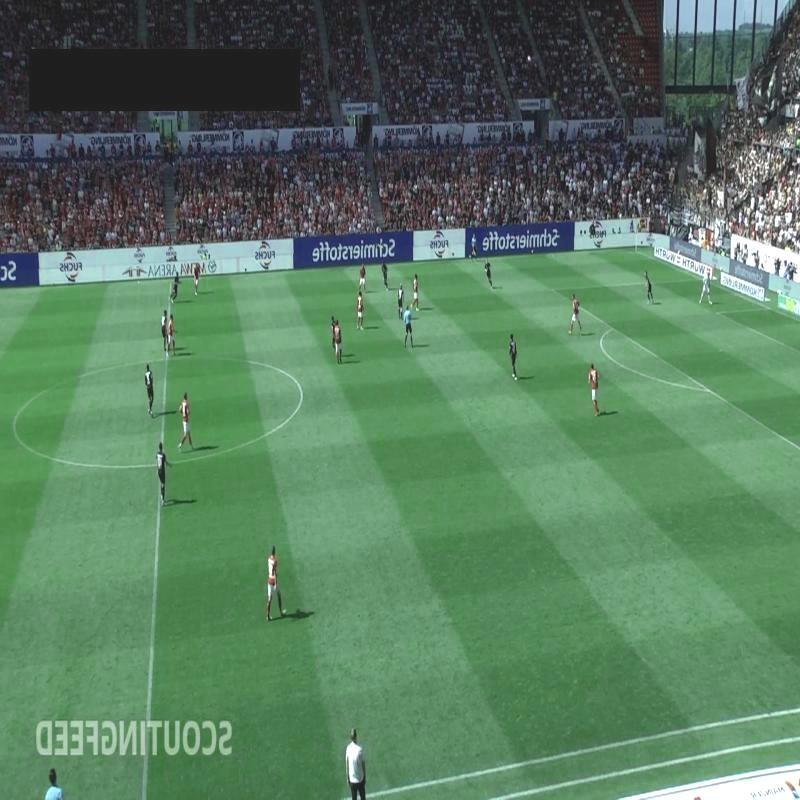1: (629, 244, 643, 258)
10: (606, 322, 620, 336)
11: (701, 383, 719, 399)
13: (164, 276, 178, 286)
14: (160, 353, 174, 366)
15: (148, 456, 174, 474)
2: (694, 272, 708, 286)
3: (760, 301, 776, 316)
7: (710, 306, 724, 320)
9: (546, 283, 560, 297)
c: (292, 384, 312, 398), (7, 417, 21, 431)
